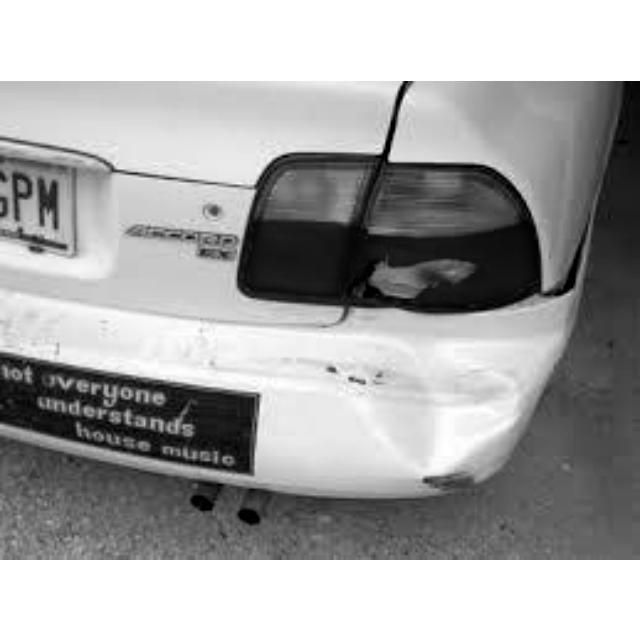rear-bumper-dent: (82, 283, 591, 505)
